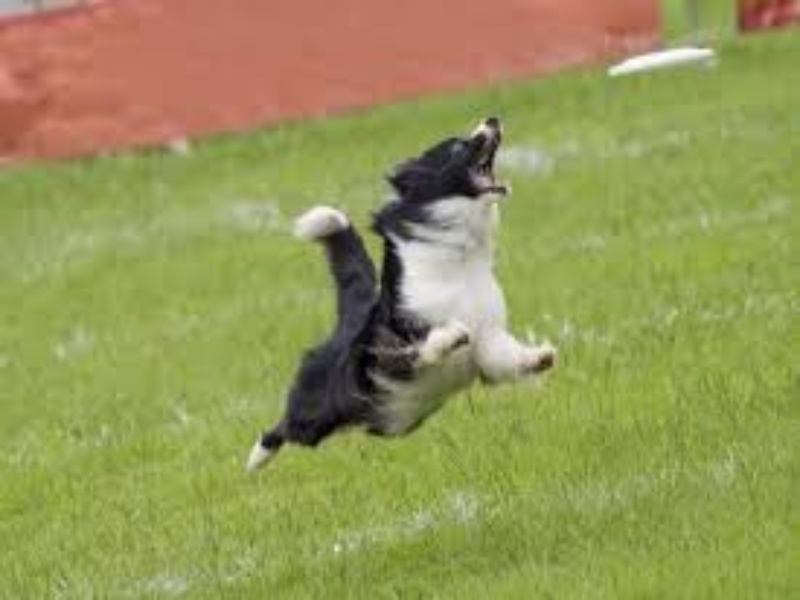dog: (247, 116, 560, 485)
